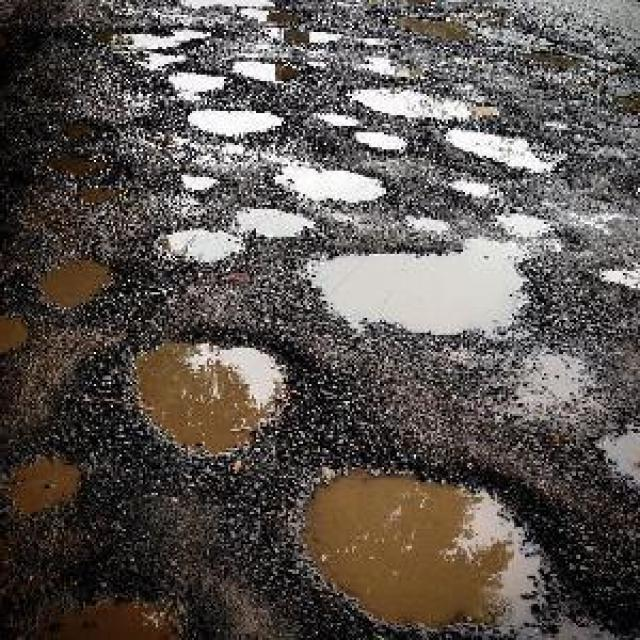pothole: (292, 457, 572, 634), (297, 239, 547, 344), (128, 329, 297, 455), (22, 561, 233, 638), (2, 433, 103, 521), (344, 79, 502, 122), (34, 248, 124, 312), (440, 124, 564, 169), (103, 21, 218, 66), (271, 158, 393, 199), (152, 224, 250, 267), (587, 420, 640, 488), (190, 101, 288, 135), (233, 203, 321, 237), (222, 56, 307, 82), (165, 68, 229, 92), (356, 128, 410, 152), (2, 309, 34, 348), (180, 169, 220, 193)
